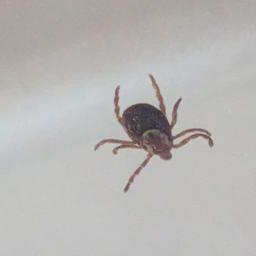Dermacentor variabilis: (94, 71, 216, 196)
